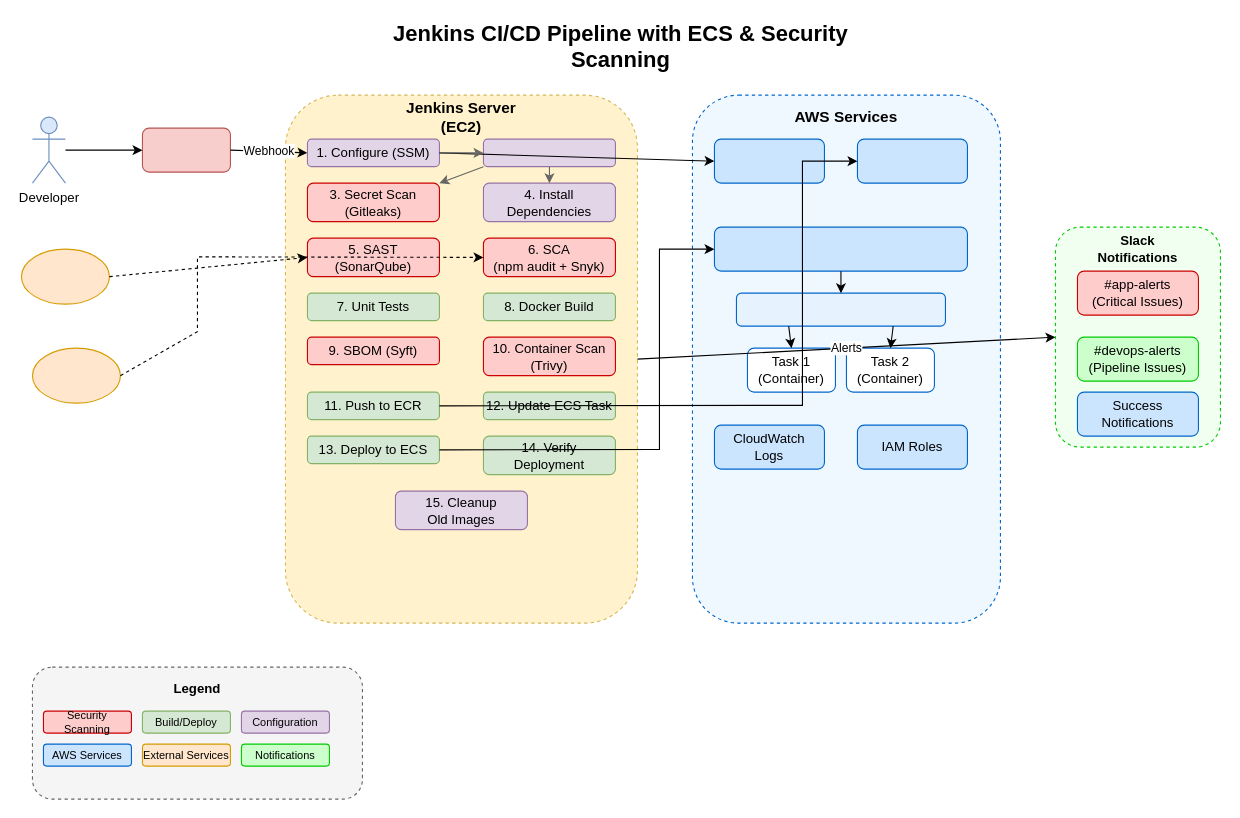
The diagram is 1240 pixels wide and 818 high, and some of its shapes have lost their labels. The centre of each missing label's shape, as x and y in pixels:
2. Checkout: the point at 548,152
ECR Repository: the point at 911,160
ECS Cluster: the point at 840,248
ECS Service: the point at 840,309
GitHub Repository: the point at 185,149
Snyk: the point at 75,375
SonarQube Cloud: the point at 64,276
SSM Parameter Store: the point at 768,160
